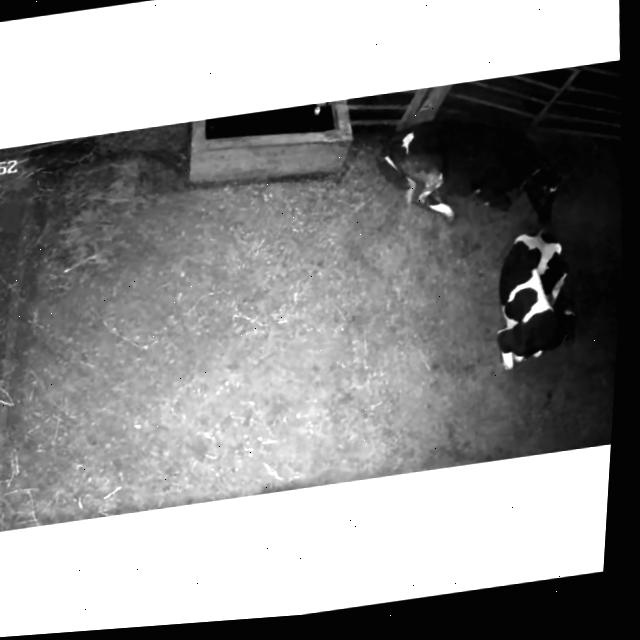lay: (359, 93, 581, 252), (473, 212, 613, 394)
